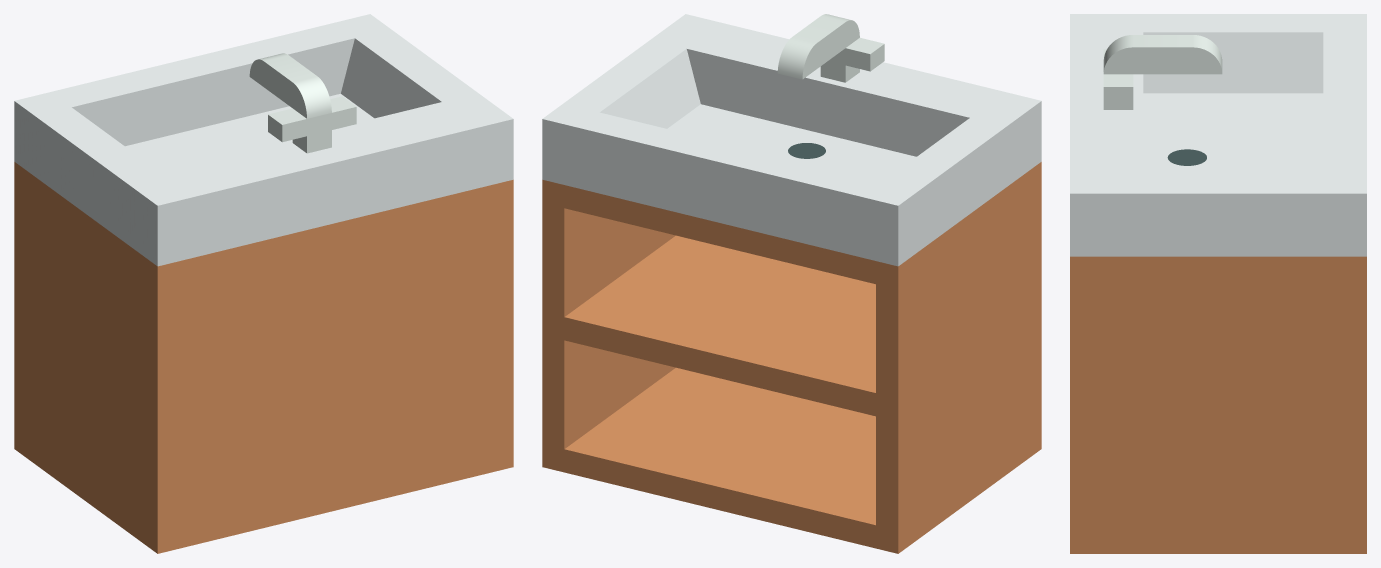
File: BathroomCabinetDrawer.glb
3 renders of one model, left to right at view 1: azimuth 30°, elevation 25°; view 2: azimuth 150°, elevation 25°; view 3: azimuth 270°, elevation 25°, orthographic. The views are drawn at different scales.
Visible parts, largest first — view 1: BathroomCabinetDrawer; view 2: BathroomCabinetDrawer; view 3: BathroomCabinetDrawer.
Boxes of the visible parts, x1,y1,x2,y2 form: BathroomCabinetDrawer: (14,14,513,553); BathroomCabinetDrawer: (542,14,1041,553); BathroomCabinetDrawer: (1070,14,1366,553).
Size of the model in its own units: 1 by 1.1 by 0.7002.
